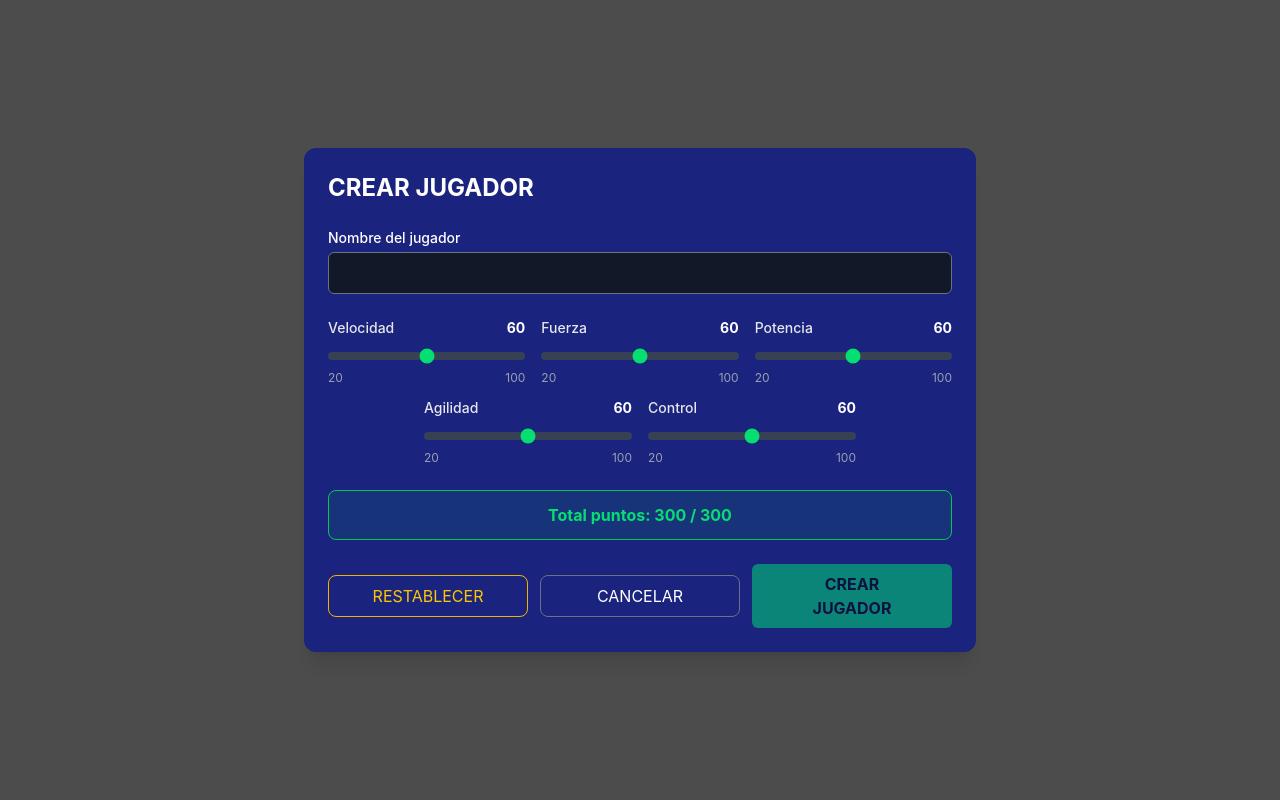
Test: CrearJugadorForm › mantiene el total de puntos en 300 al modificar un slider
// Aumentamos la velocidad a 80, lo que hace que el total sea 320
Set the slider named "Velocidad" to "80": x=472, y=356 top-left (328, 352), bottom-right (525, 360)
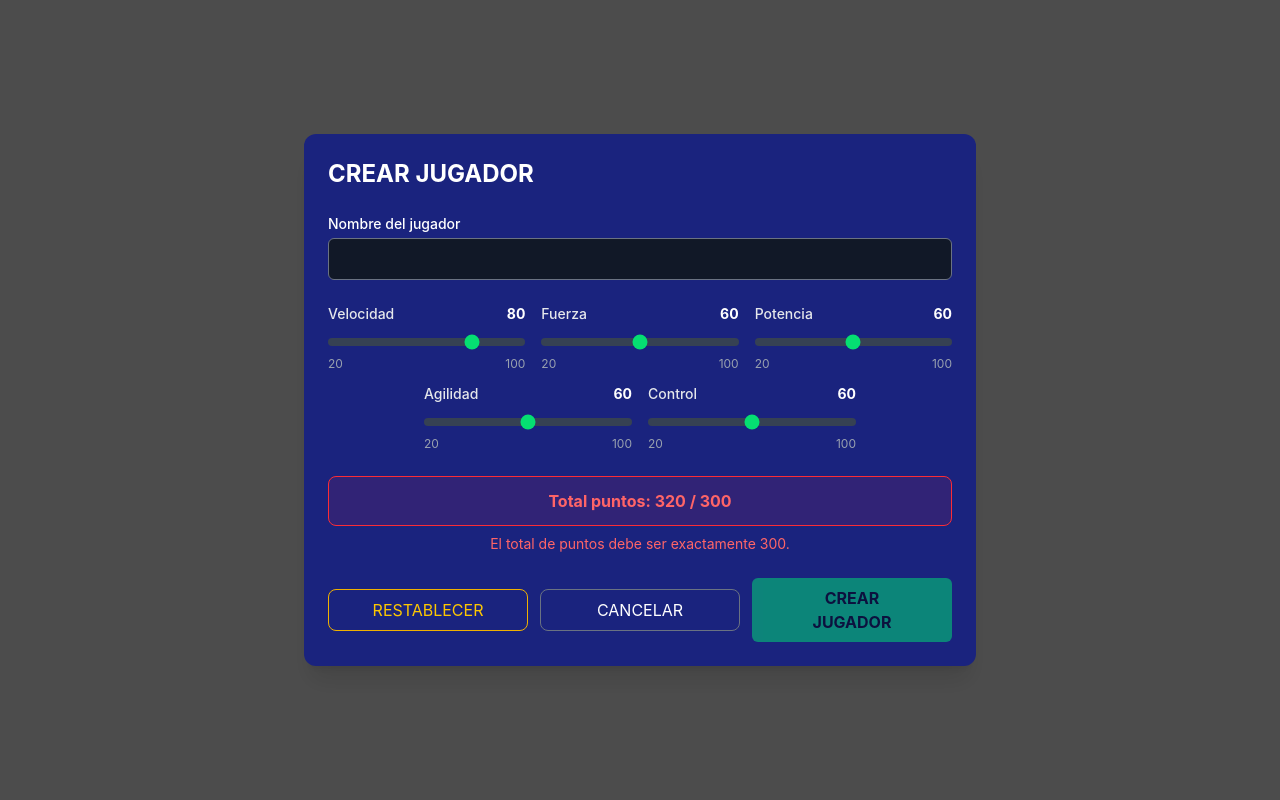
Check: the text "Total puntos: 320 / 300" is shown, box top-left (548, 491), bottom-right (732, 511)
